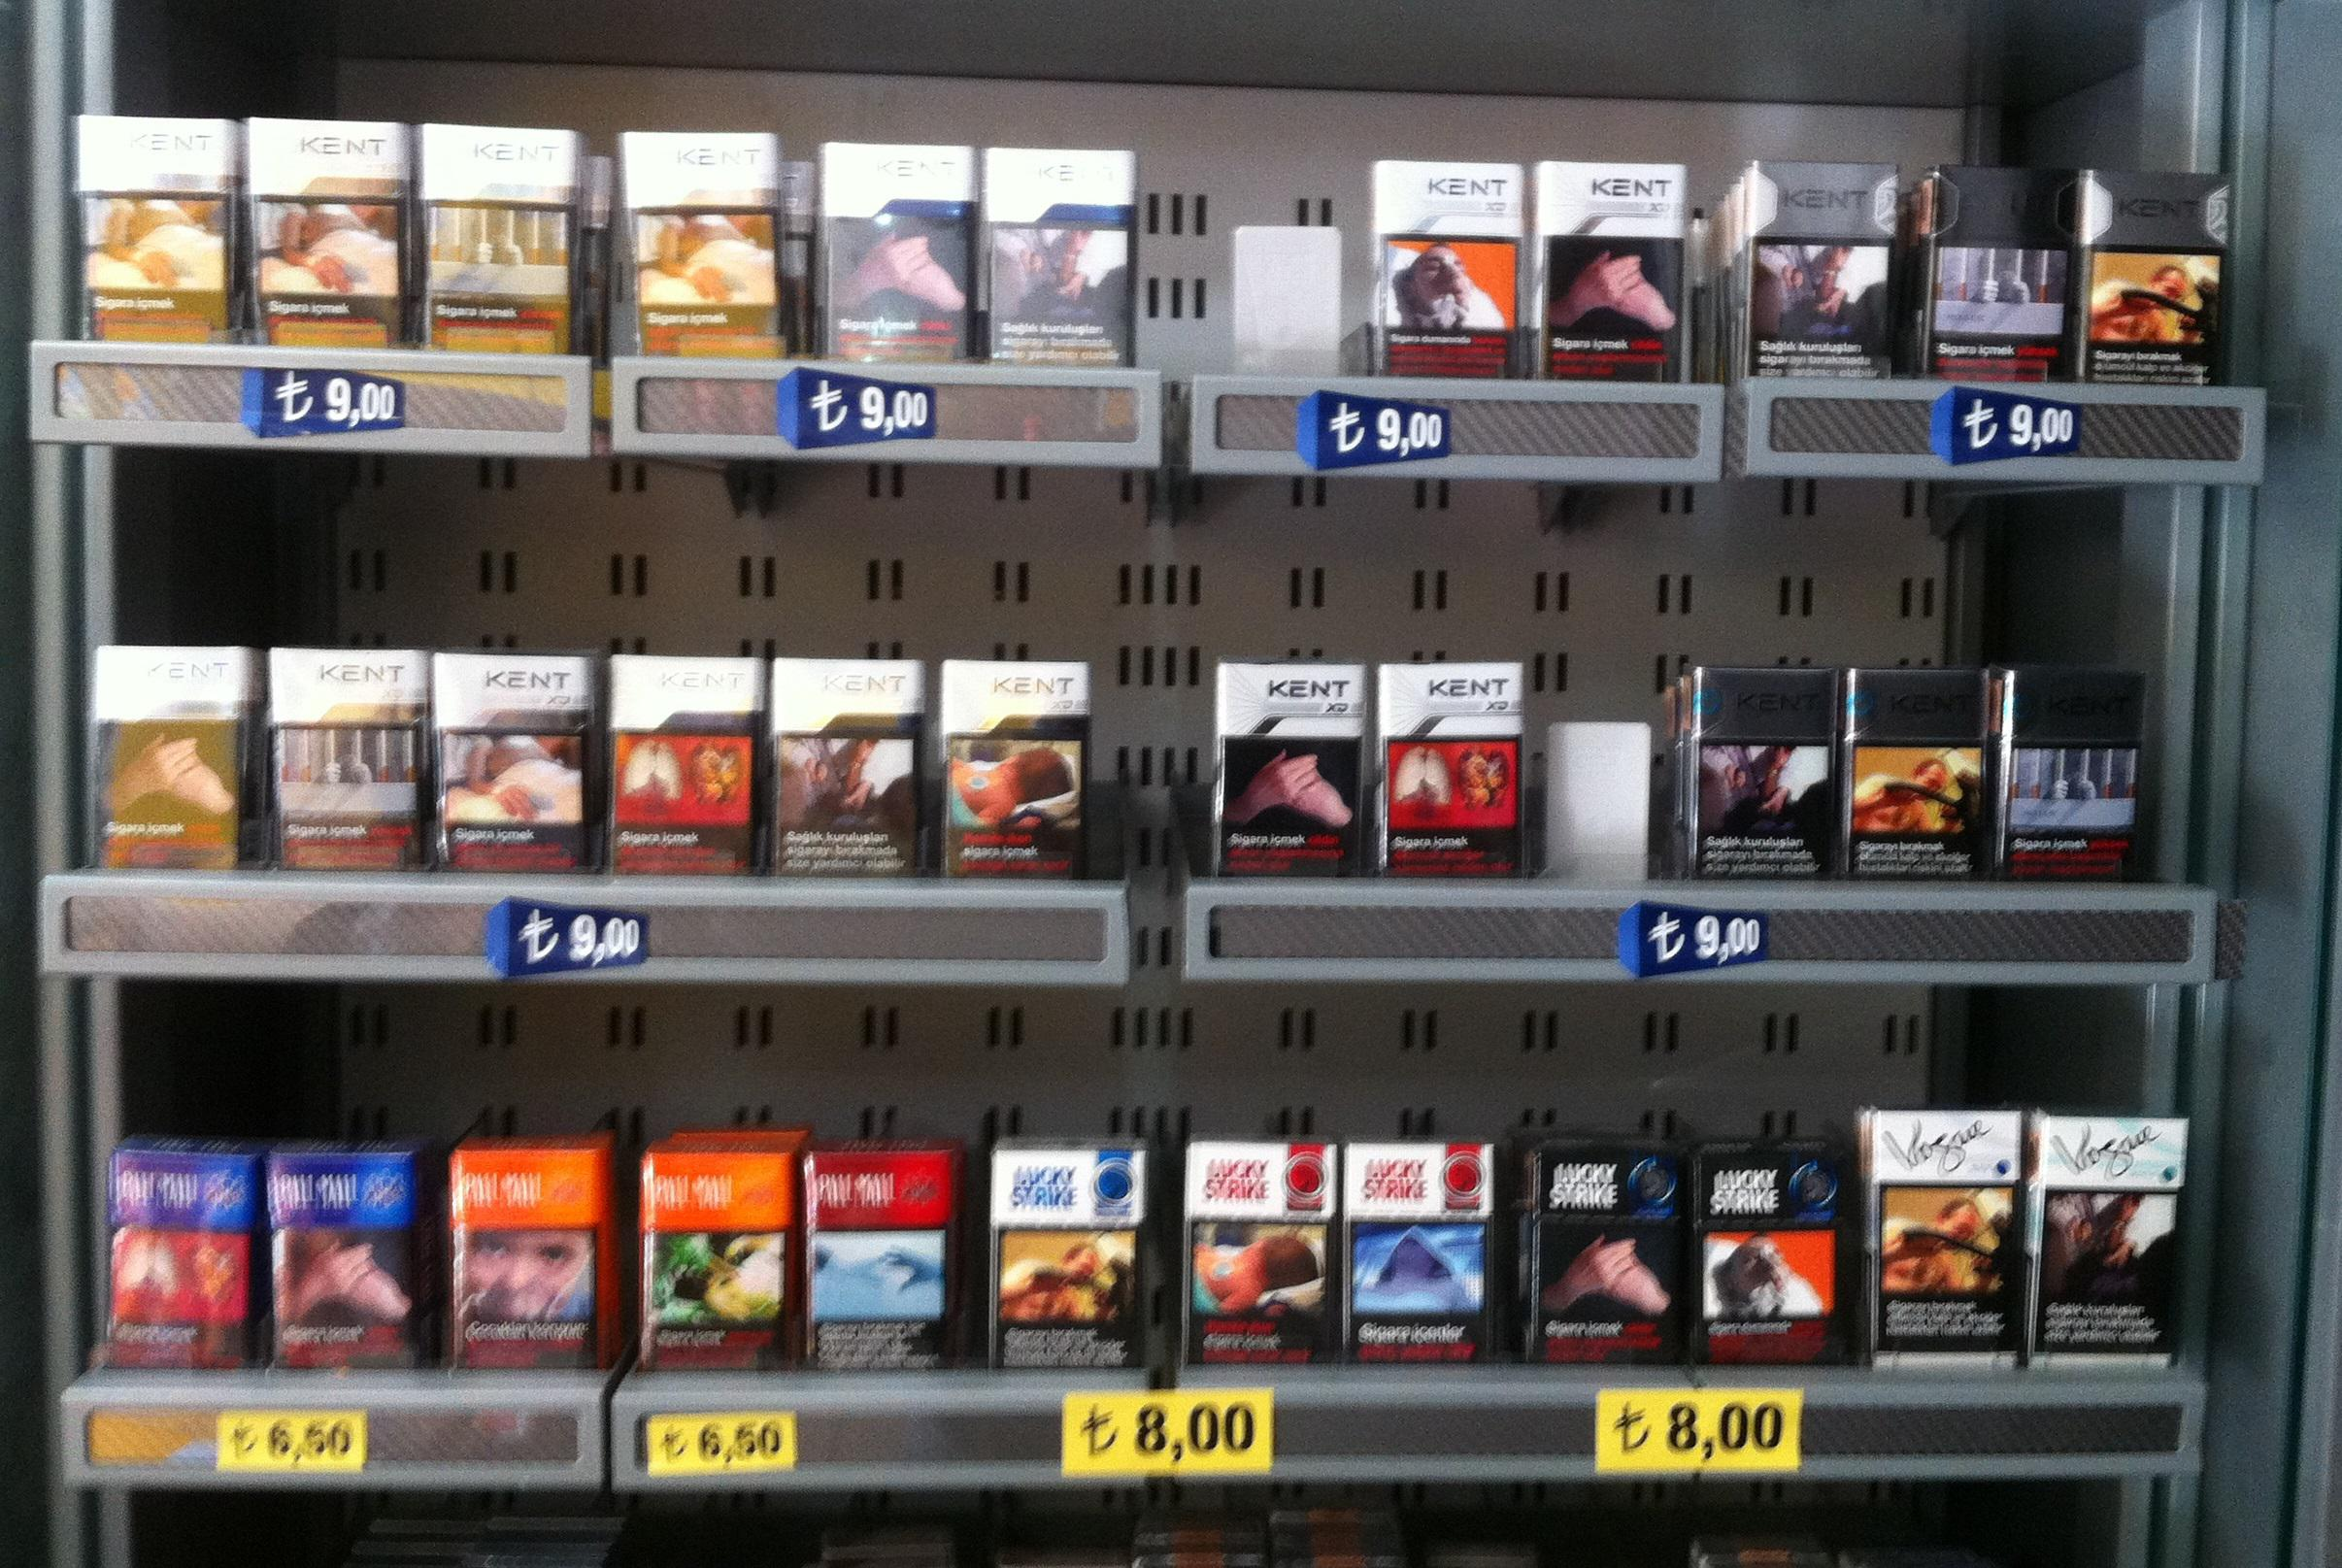product: (1857, 1092, 2039, 1360), (2025, 1104, 2207, 1372), (1647, 642, 1831, 887), (1736, 149, 1920, 394), (1826, 642, 2009, 887), (1985, 646, 2169, 891), (2071, 152, 2254, 397), (67, 98, 250, 343), (777, 1123, 961, 1369), (921, 633, 1104, 878), (245, 110, 429, 355), (1204, 639, 1388, 882), (761, 639, 945, 882), (977, 1130, 1159, 1375), (984, 133, 1166, 378), (1155, 1123, 1337, 1369), (1334, 1123, 1516, 1369), (1889, 152, 2071, 397), (410, 114, 592, 359), (588, 626, 770, 871), (611, 114, 793, 359), (75, 630, 257, 875), (79, 1123, 261, 1369), (802, 121, 984, 366), (1353, 129, 1535, 374), (1369, 646, 1551, 891), (1528, 133, 1710, 378), (250, 626, 432, 871), (417, 626, 599, 871), (452, 1127, 634, 1372), (614, 1123, 796, 1369), (1675, 1123, 1857, 1369), (250, 1120, 432, 1363), (1497, 1120, 1679, 1363)
